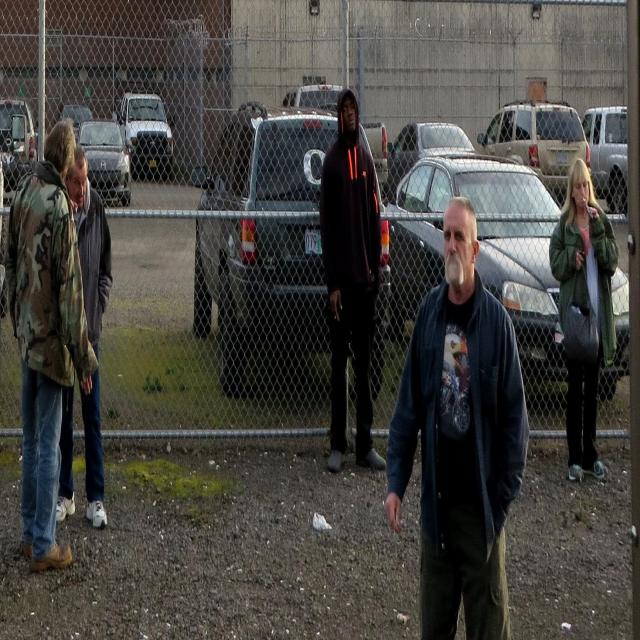body: (383, 196, 532, 639), (4, 116, 100, 575), (319, 85, 391, 471), (549, 157, 620, 484), (56, 143, 114, 530), (0, 139, 6, 305)
